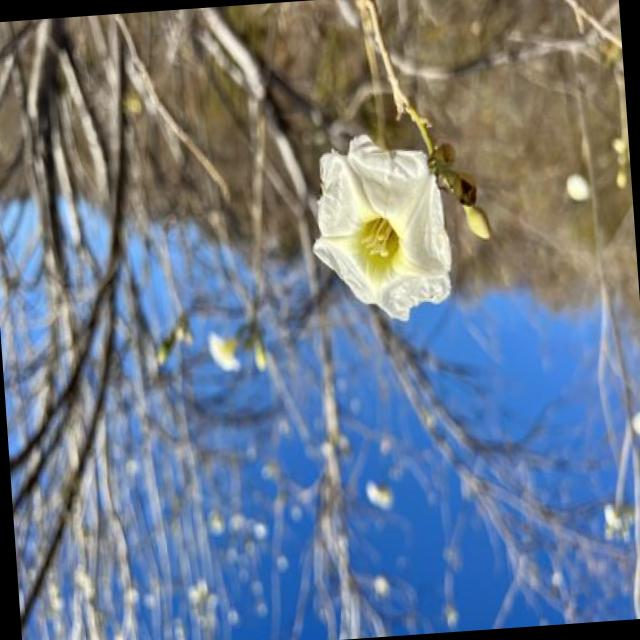ipomoea: (300, 122, 460, 332)
